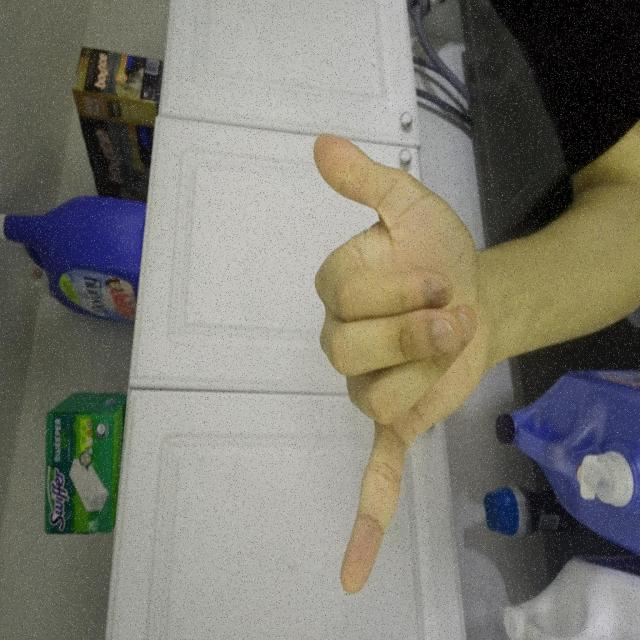Y: (18, 364, 418, 640)
